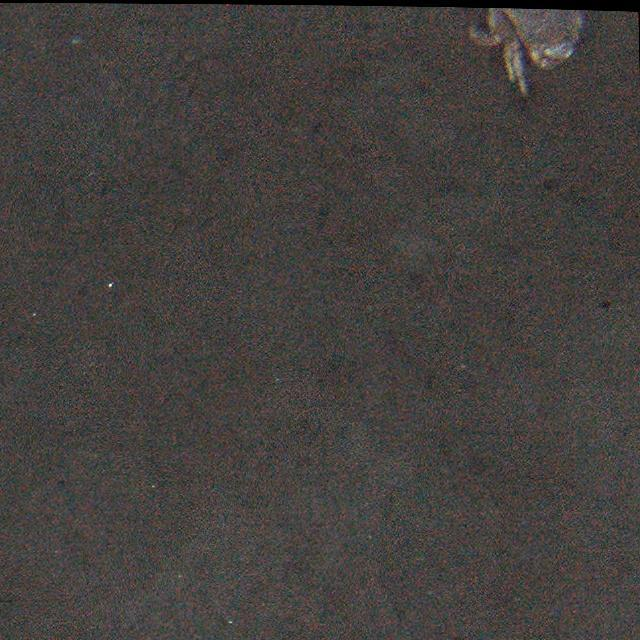crab: (466, 4, 592, 98)
